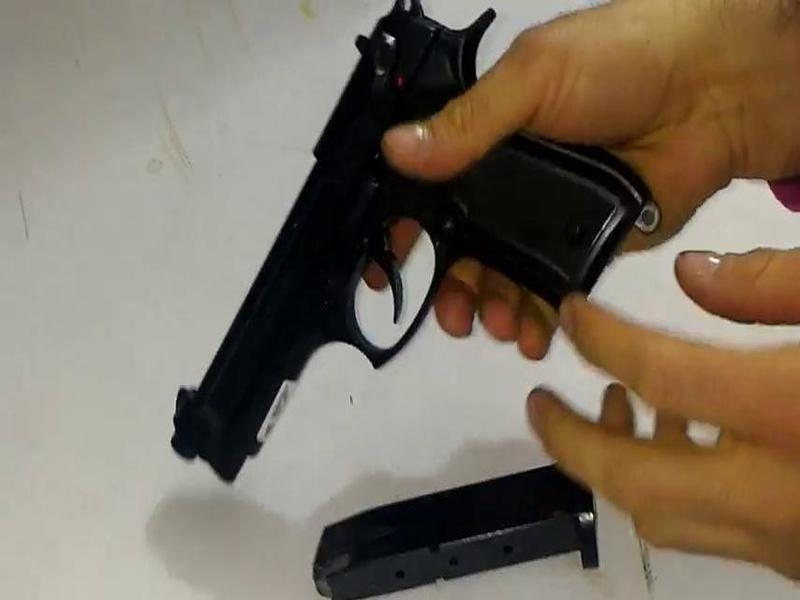Pistola: (142, 2, 628, 495)
